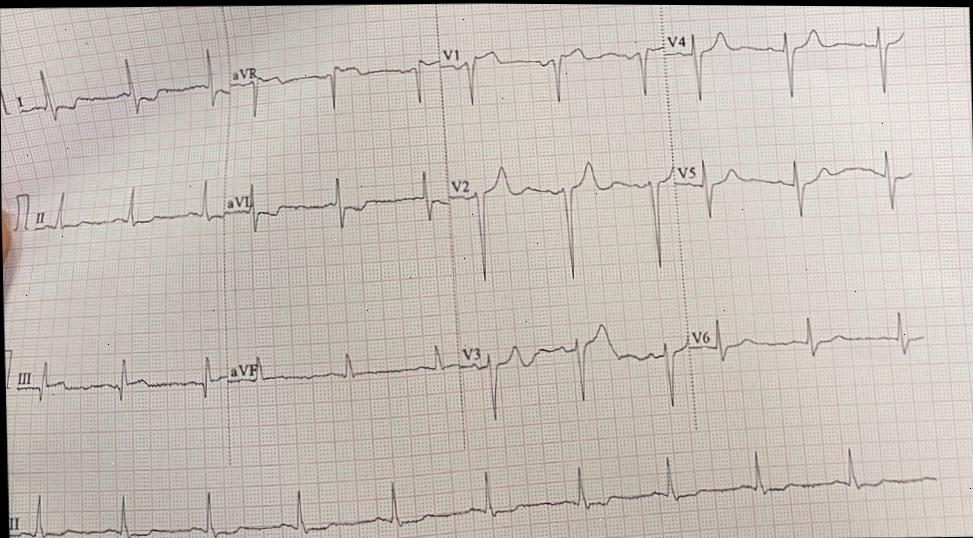Lead_I: (9, 45, 232, 129)
Lead_II: (28, 174, 223, 248)
Lead_III: (12, 345, 230, 420)
Lead_II_ext: (6, 430, 954, 538)
Lead_V1: (437, 27, 666, 115)
Lead_V2: (442, 147, 680, 293)
Lead_V3: (459, 302, 691, 431)
Lead_V4: (660, 4, 912, 119)
Lead_V5: (670, 137, 926, 226)
Lead_V6: (684, 296, 933, 376)
Lead_aVF: (223, 340, 463, 401)
Lead_aVL: (219, 169, 448, 240)
Lead_aVR: (226, 41, 441, 127)
